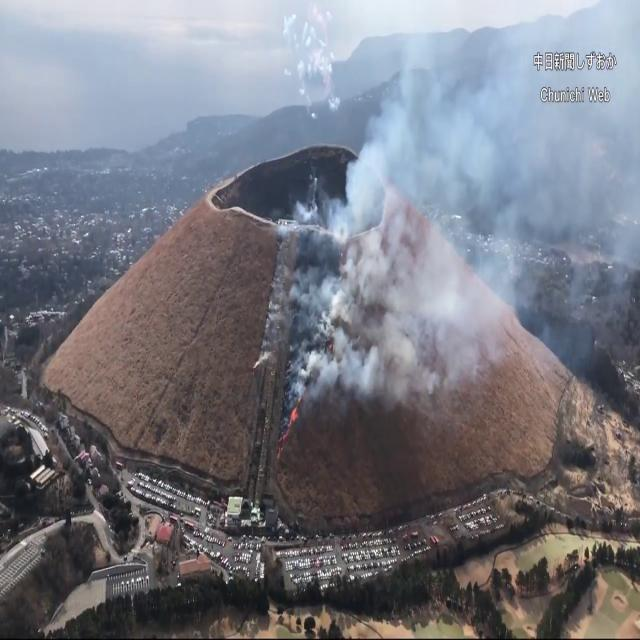Smoke: (286, 1, 640, 420)
